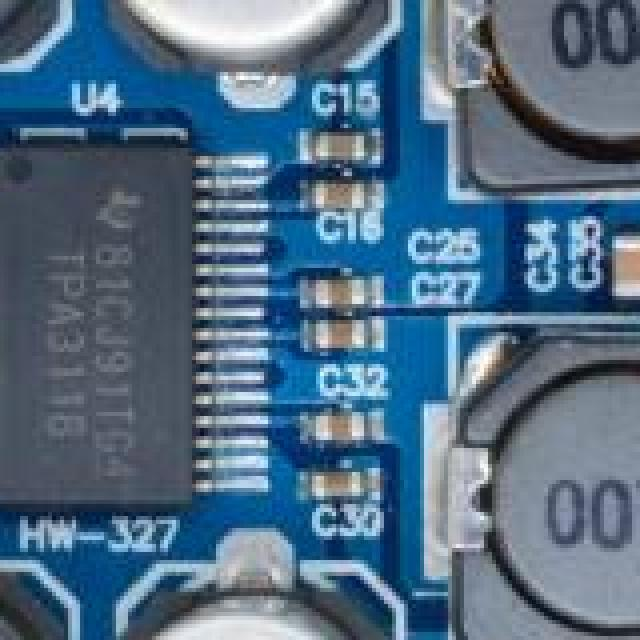IC: (0, 140, 228, 524)
capacitor: (108, 0, 384, 68), (100, 588, 384, 640), (0, 0, 60, 68), (0, 580, 56, 640), (316, 272, 376, 308), (316, 132, 372, 170), (308, 468, 366, 502), (608, 236, 640, 296), (320, 316, 376, 350), (316, 412, 378, 442), (312, 180, 370, 210)
inductor: (448, 312, 640, 640), (456, 0, 640, 208)
